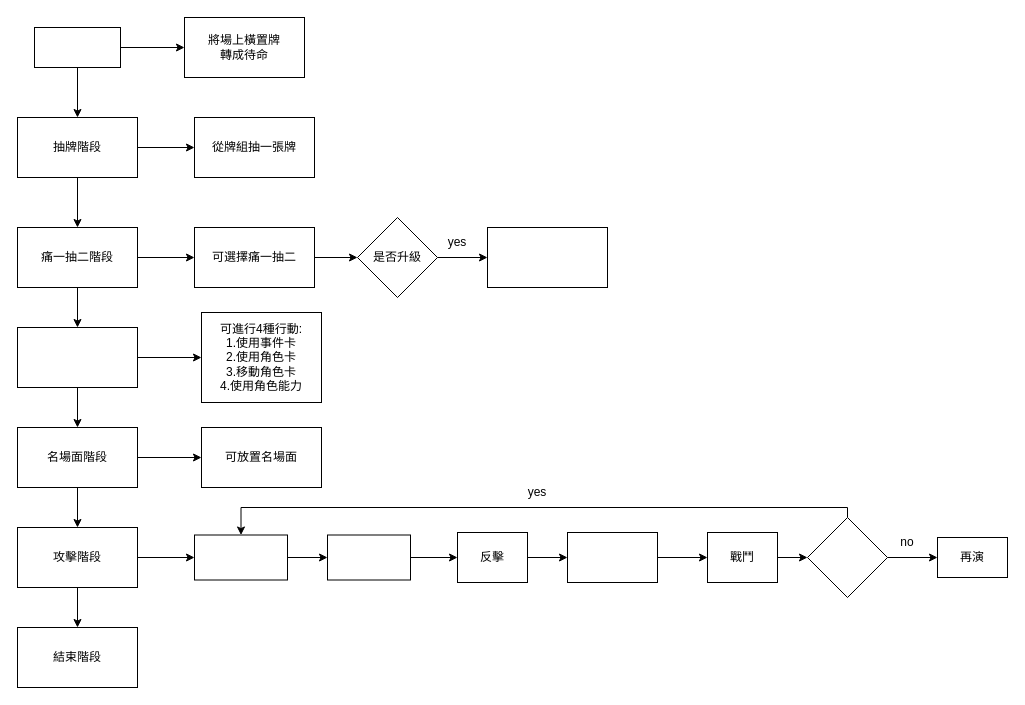
Some shapes in this 1025 by 705 pixel diagram are drawn without their labels. The shapes that lost their labels are listed below. From the top down, each one's centre as x and y in pixels, then its label:
At [77,47]: "準備階段".
At [547,257]: "7選一到等級區 其它到休息區".
At [77,357]: "主要階段".
At [241,557]: "攻擊宣言".
At [368,557]: "觸發".
At [612,557]: "傷害計算".
At [847,557]: "還要打嗎?".
